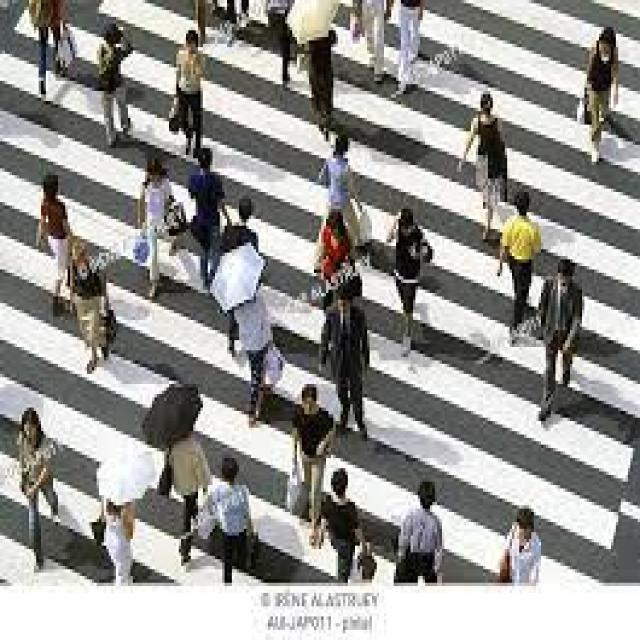Pedestrians: (14, 404, 68, 573), (532, 252, 584, 418), (491, 189, 544, 350), (133, 155, 193, 290), (198, 454, 261, 582), (319, 286, 372, 438), (65, 236, 118, 374), (283, 384, 326, 546), (464, 88, 509, 242), (96, 468, 154, 586), (324, 465, 379, 583), (391, 475, 449, 583), (169, 27, 215, 158), (166, 424, 208, 566), (577, 27, 621, 162), (391, 209, 430, 360), (97, 20, 140, 148), (22, 4, 77, 94), (41, 172, 75, 316), (191, 145, 222, 293), (326, 134, 362, 242), (319, 212, 362, 283), (502, 505, 541, 583)
